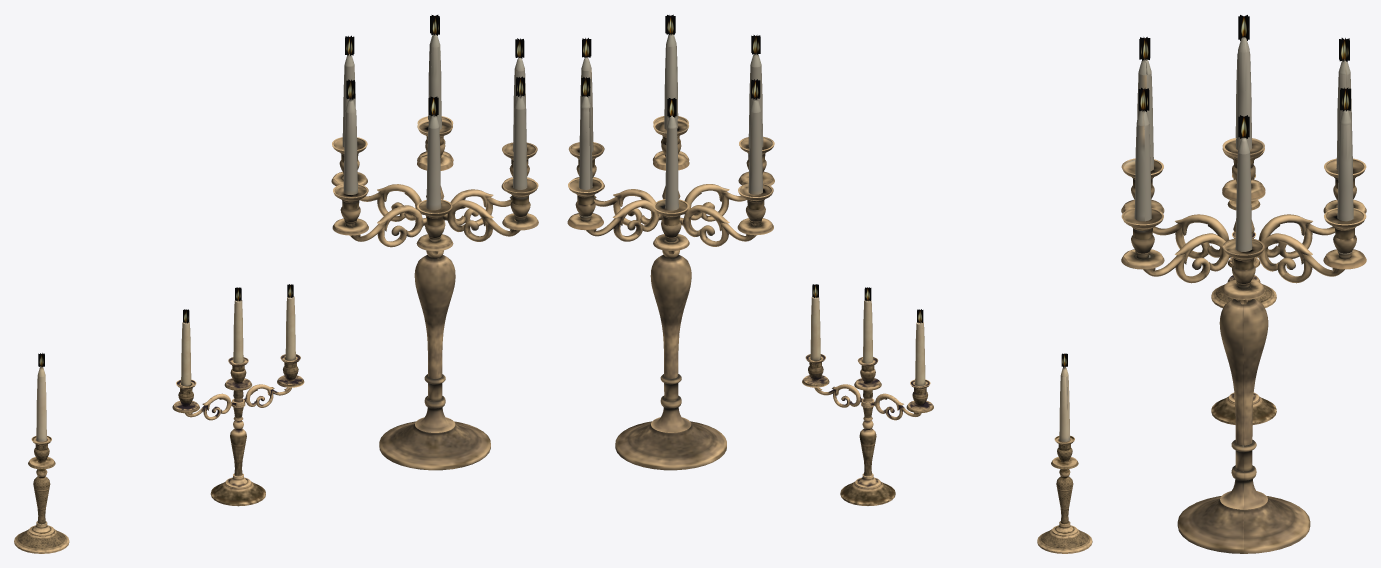
Rendered from cc0_candles.glb.
3 renders of one model, left to right at view 1: azimuth 30°, elevation 25°; view 2: azimuth 150°, elevation 25°; view 3: azimuth 270°, elevation 25°, orthographic. The views are drawn at different scales.
Visible parts, largest first — view 1: brass_candleholder_01; view 2: brass_candleholder_01; view 3: brass_candleholder_01.
Boxes of the visible parts, left/top/right/bottom form: brass_candleholder_01: left=14, top=15, right=538, bottom=553; brass_candleholder_01: left=567, top=14, right=1092, bottom=553; brass_candleholder_01: left=1121, top=15, right=1366, bottom=553.
Bounding box in the file's own units: 1.05 × 0.8353 × 0.3647.
Materials: 1 (1 with a texture image).
